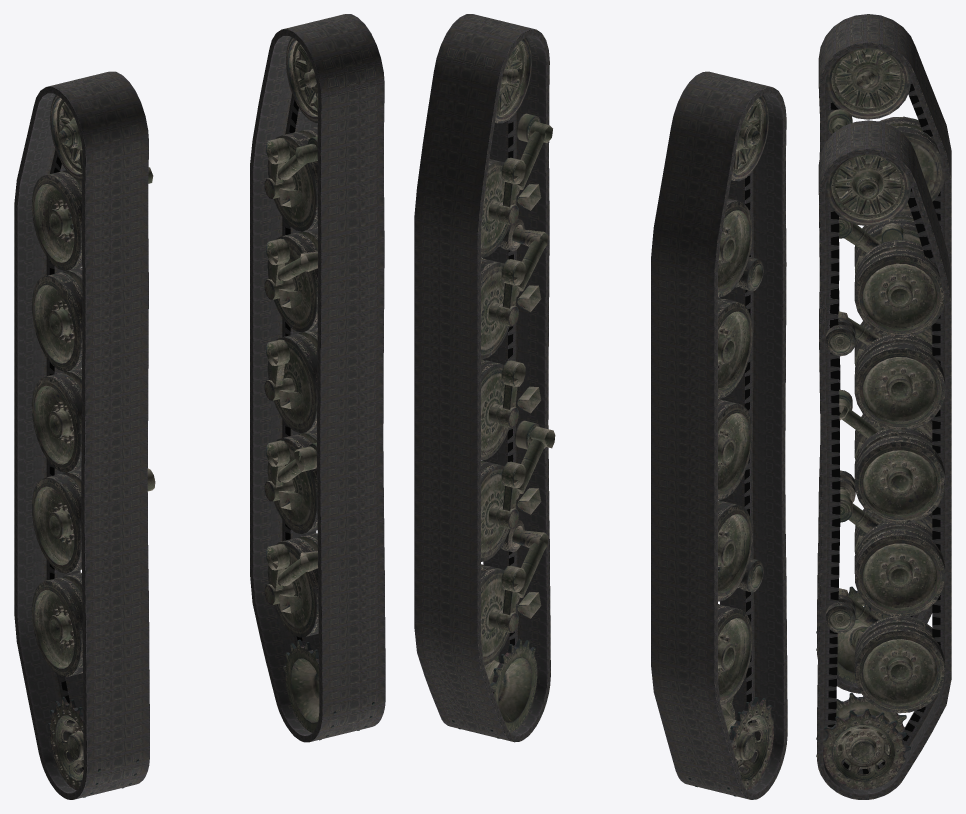
The model's file is Chassis.glb.
The picture shows the model from 3 angles, left to right: view 1: azimuth 30°, elevation 25°; view 2: azimuth 150°, elevation 25°; view 3: azimuth 270°, elevation 25°; orthographic projection. The views are drawn at different scales.
Visible parts, largest first — view 1: set_1_group_0, set_0_group_0, set_3_group_0, set_2_group_0; view 2: set_1_group_0, set_0_group_0, set_3_group_0, set_2_group_0; view 3: set_3_group_0, set_0_group_0, set_2_group_0, set_1_group_0.
Part boxes in pixels (bbox=[...]): set_1_group_0: bbox=[14, 71, 149, 799]; set_0_group_0: bbox=[250, 14, 385, 742]; set_3_group_0: bbox=[264, 37, 374, 740]; set_2_group_0: bbox=[31, 95, 155, 797]; set_1_group_0: bbox=[651, 71, 787, 799]; set_0_group_0: bbox=[414, 14, 550, 742]; set_3_group_0: bbox=[452, 37, 555, 738]; set_2_group_0: bbox=[685, 95, 773, 796]; set_3_group_0: bbox=[816, 154, 945, 789]; set_0_group_0: bbox=[817, 120, 951, 799]; set_2_group_0: bbox=[816, 48, 944, 682]; set_1_group_0: bbox=[817, 14, 951, 693].
Size of the model in its own units: 2.6 by 5.86 by 1.1.
4 materials, 4 textured.
